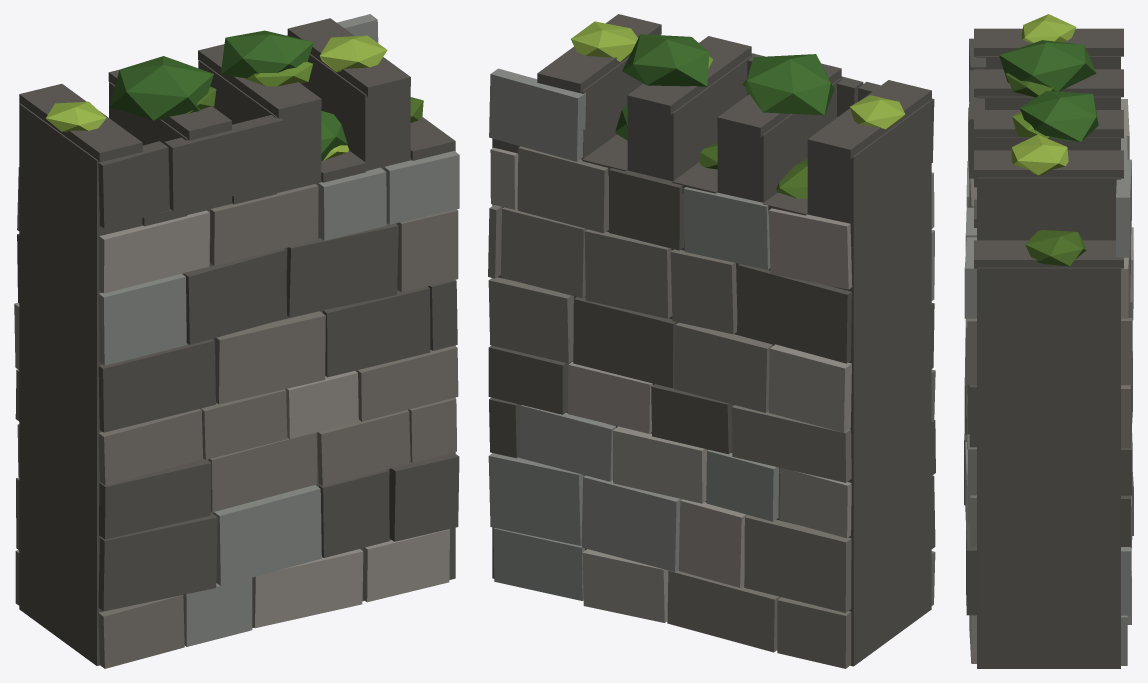
Rendered from forest_fort_wall.glb.
The picture shows the model from 3 angles, left to right: view 1: azimuth 30°, elevation 25°; view 2: azimuth 150°, elevation 25°; view 3: azimuth 270°, elevation 25°; orthographic projection. The views are drawn at different scales.
Visible parts, largest first — view 1: forest_fort_wall; view 2: forest_fort_wall; view 3: forest_fort_wall.
Boxes of the visible parts, bbox=[...] form: forest_fort_wall: bbox=[14, 14, 459, 668]; forest_fort_wall: bbox=[488, 14, 935, 668]; forest_fort_wall: bbox=[964, 14, 1133, 668].
Bounding box in the file's own units: 4.24 × 5.86 × 1.77.
